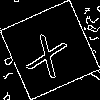X: (25, 25, 73, 79)
